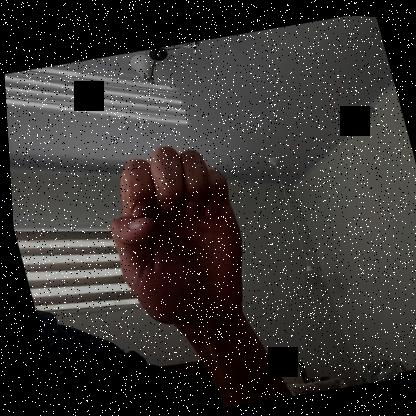E: (88, 131, 262, 339)
